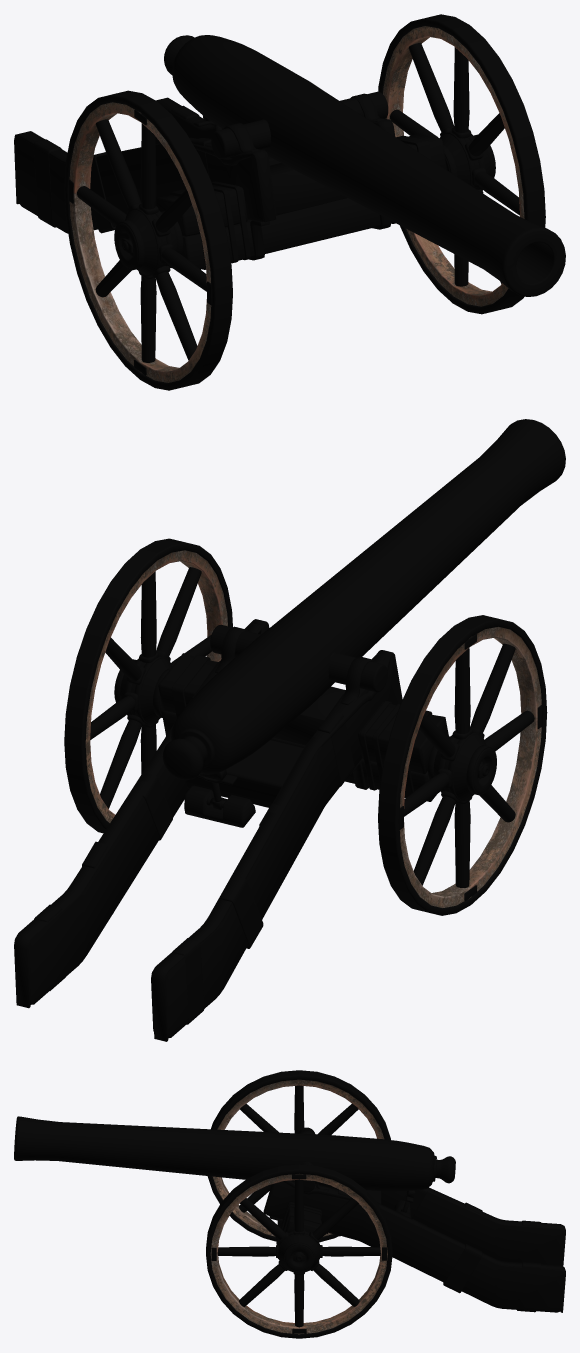
The model's file is ARTILLERY.fbx.
The picture shows the model from 3 angles, top to bottom: view 1: azimuth 30°, elevation 25°; view 2: azimuth 150°, elevation 25°; view 3: azimuth 270°, elevation 25°; orthographic projection. The views are drawn at different scales.
Parts seen in each view (by area): view 1: Cube.005, Cube.002, Cube.006, Cube.001, Cube.007, Cube.003; view 2: Cube.005, Cube.006, Cube.002, Cube.003, Cube.001, Cube.007; view 3: Cube.005, Cube.006, Cube.002, Cube.001, Cube.007, Cube.003.
Part boxes in pixels (bbox=[...]): Cube.005: bbox=[164, 35, 565, 296]; Cube.002: bbox=[64, 14, 545, 390]; Cube.006: bbox=[14, 103, 446, 269]; Cube.001: bbox=[77, 42, 519, 362]; Cube.007: bbox=[69, 26, 524, 382]; Cube.003: bbox=[14, 93, 431, 269]; Cube.005: bbox=[162, 419, 565, 827]; Cube.006: bbox=[14, 622, 448, 1038]; Cube.002: bbox=[64, 538, 547, 915]; Cube.003: bbox=[14, 619, 489, 1041]; Cube.001: bbox=[90, 567, 534, 887]; Cube.007: bbox=[85, 550, 541, 907]; Cube.005: bbox=[14, 1116, 455, 1217]; Cube.006: bbox=[265, 1180, 565, 1312]; Cube.002: bbox=[206, 1070, 392, 1338]; Cube.001: bbox=[217, 1085, 380, 1327]; Cube.007: bbox=[210, 1079, 387, 1334]; Cube.003: bbox=[263, 1130, 565, 1312].
Size of the model in its own units: 122 by 89.95 by 261.
6 materials, 6 textured.
